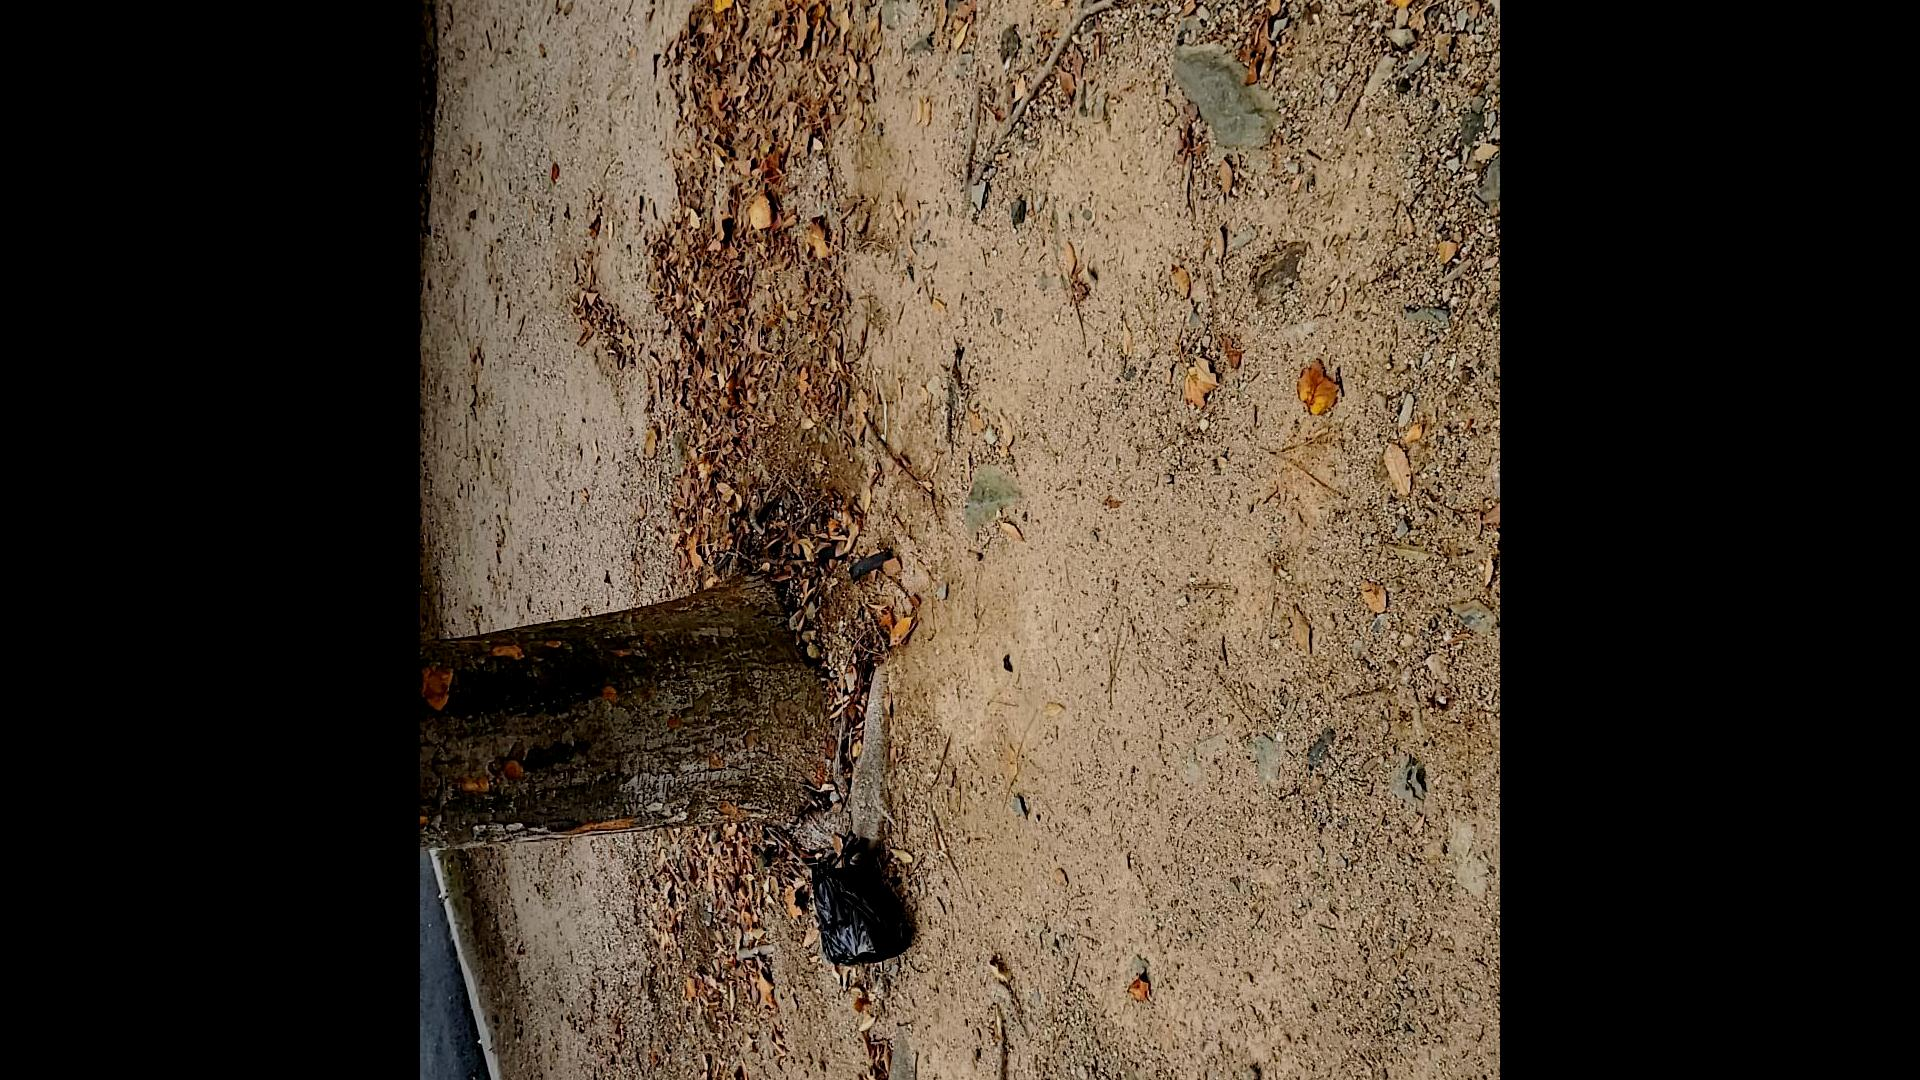black_bag: (802, 829, 913, 975)
